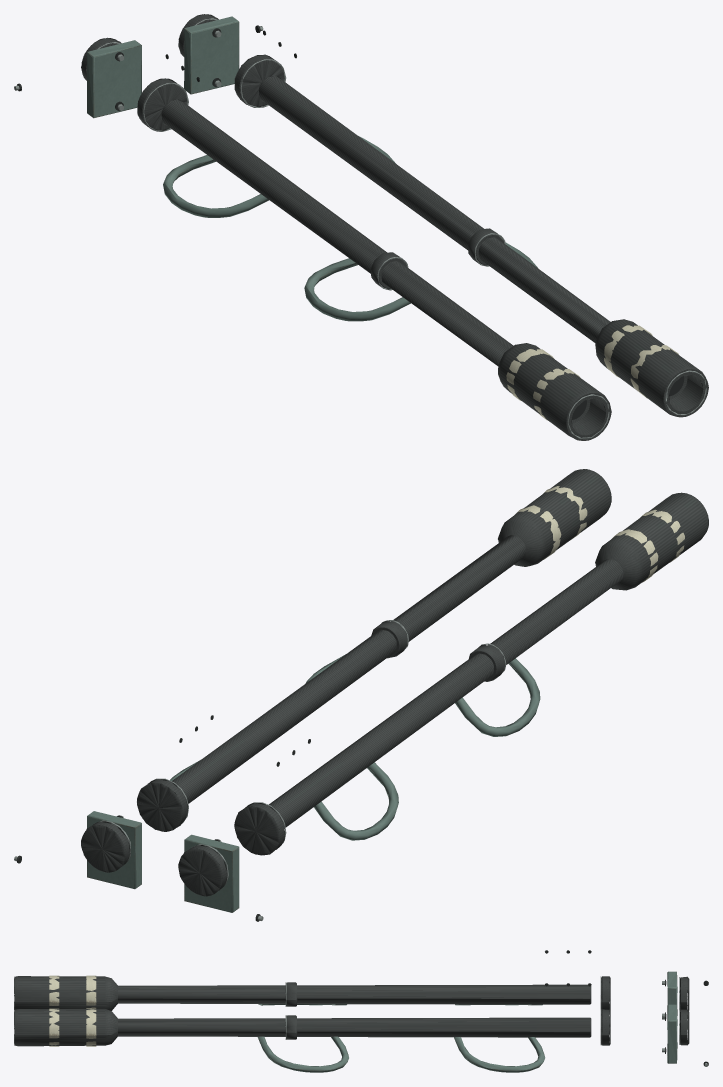
Rendered from zu23_elev.glb.
3 renders of one model, top to bottom at view 1: azimuth 30°, elevation 25°; view 2: azimuth 150°, elevation 25°; view 3: azimuth 270°, elevation 25°, orthographic. The views are drawn at different scales.
Parts seen in each view (by area): view 1: zu_elev; view 2: zu_elev; view 3: zu_elev.
Boxes of the visible parts, left/top/right/bottom form: zu_elev: left=14, top=14, right=708, bottom=440; zu_elev: left=14, top=469, right=708, bottom=921; zu_elev: left=14, top=950, right=708, bottom=1072.
Bounding box in the file's own units: 0.8828 × 0.3468 × 3.1.
6 materials, 5 textured.
